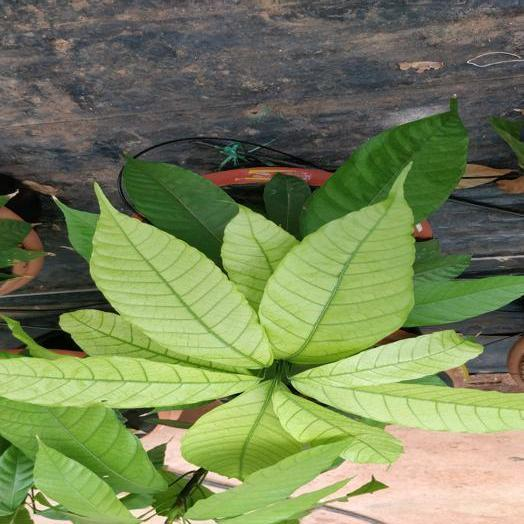Healthy Leaf: (302, 99, 468, 233), (124, 159, 237, 263), (405, 276, 523, 326), (264, 173, 310, 237), (414, 240, 470, 280)
Iron: (90, 186, 270, 368), (260, 175, 414, 363), (0, 397, 162, 490), (0, 357, 257, 408), (188, 438, 348, 519), (293, 379, 523, 432), (182, 380, 301, 479), (295, 330, 481, 387), (273, 386, 400, 463), (34, 440, 138, 523), (60, 309, 202, 364), (223, 206, 297, 311), (221, 481, 343, 521)
